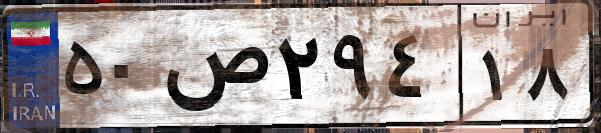0: (110, 28, 158, 98)
1: (475, 38, 525, 113)
2: (270, 28, 330, 110)
4: (385, 28, 445, 110)
5: (57, 26, 110, 100)
8: (525, 38, 570, 115)
9: (330, 28, 385, 110)
ص: (158, 20, 270, 120)
